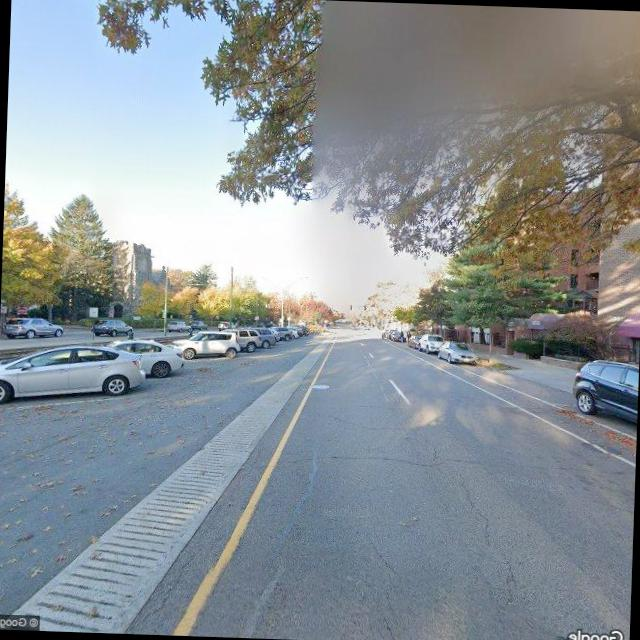crack: (420, 426, 528, 597), (280, 438, 621, 477)
